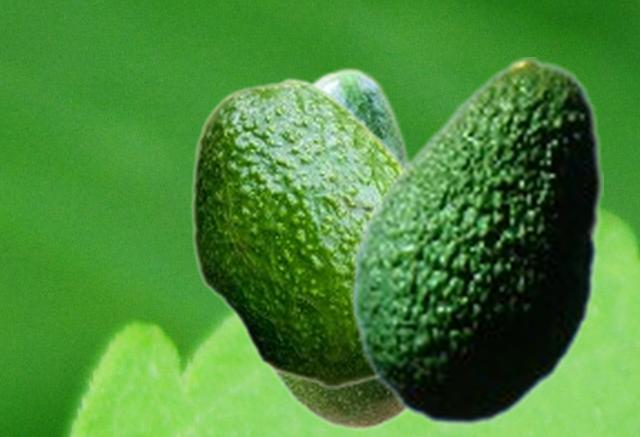avocado: (350, 57, 602, 426), (189, 76, 405, 388), (263, 66, 411, 431)
